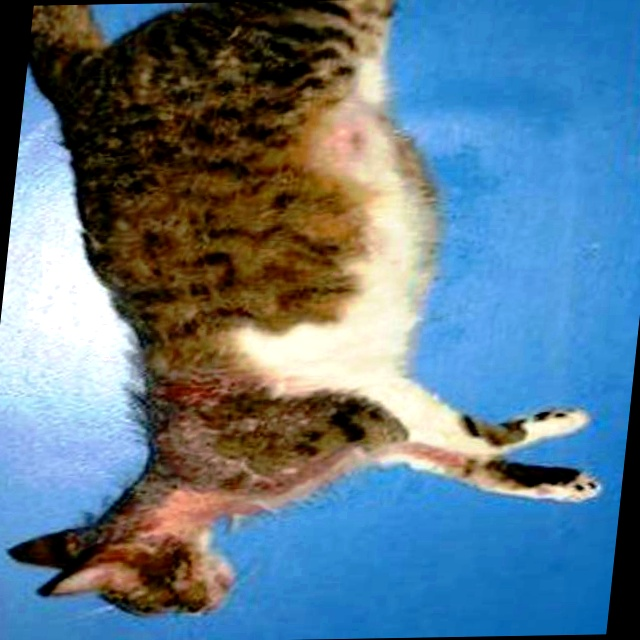hairloss: (243, 77, 448, 391)
